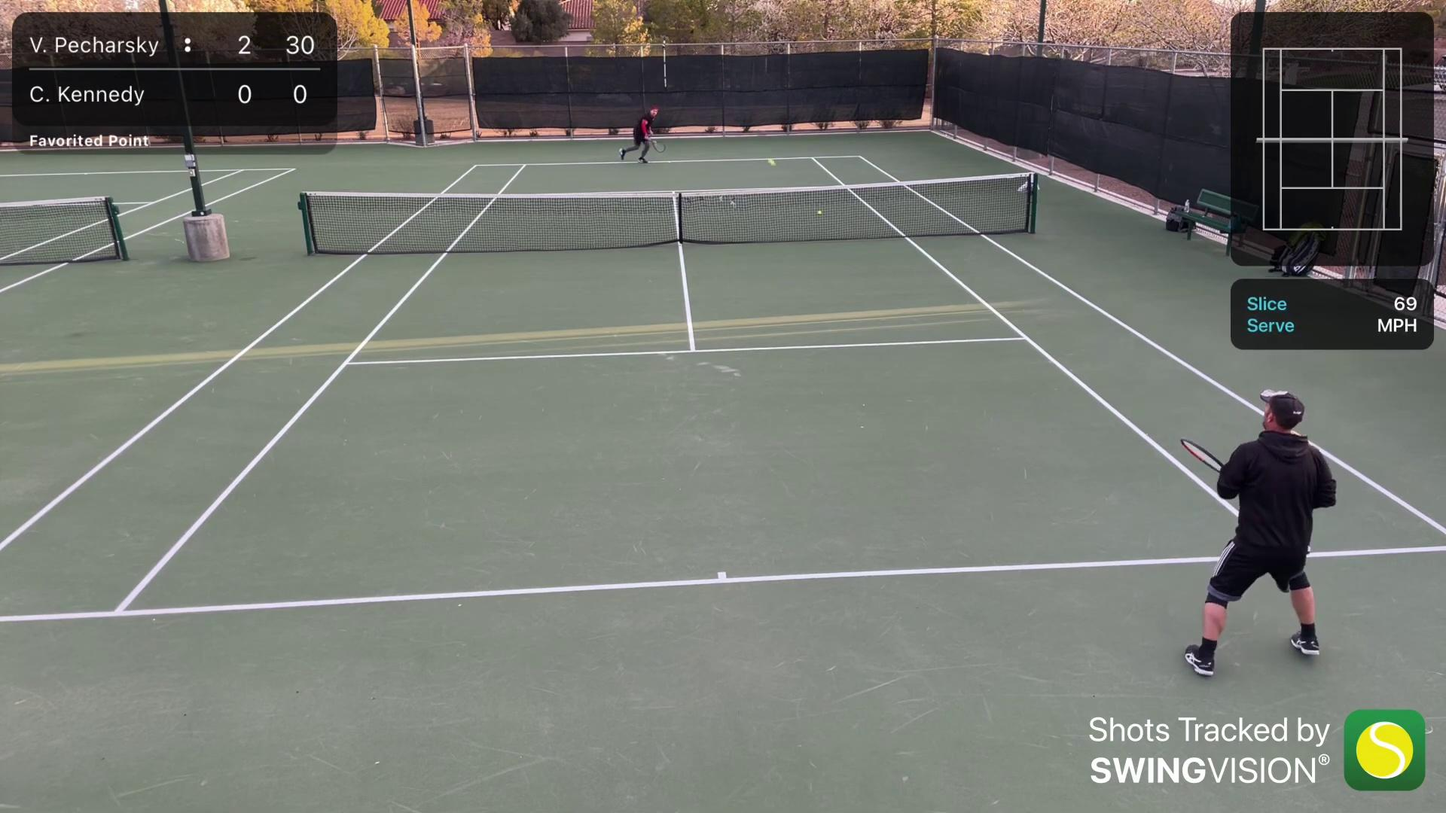ball: (768, 160, 776, 168), (816, 210, 824, 216)
